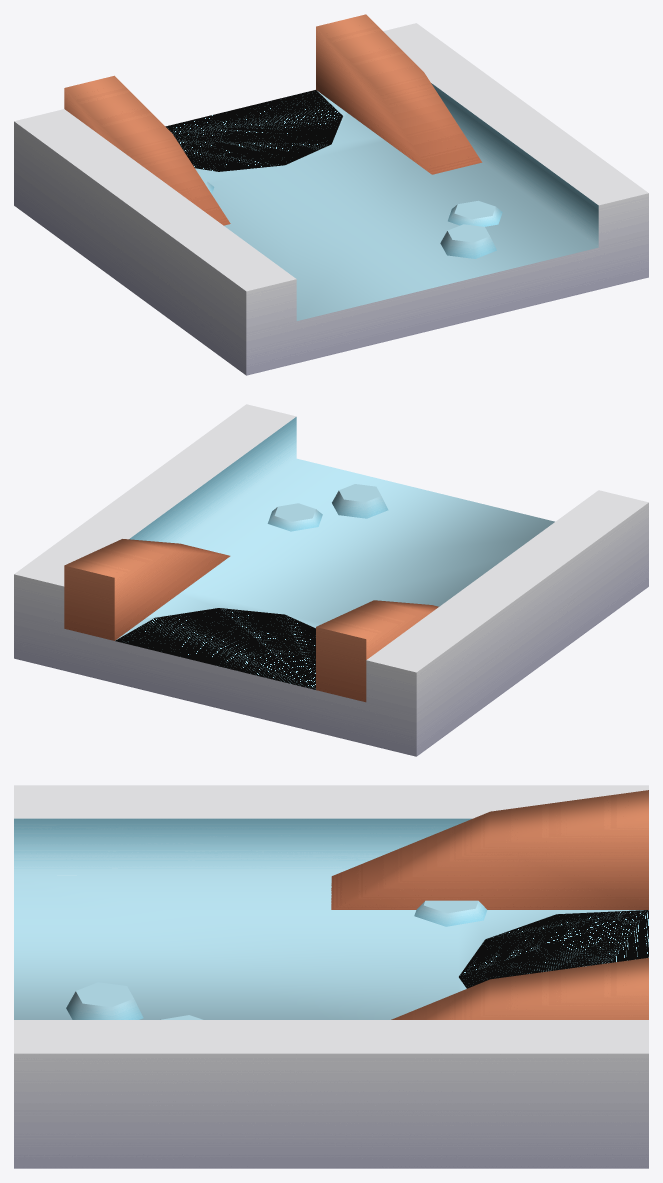
File: tower-defense-kit--snow-tile-river-transition.glb
3 renders of one model, top to bottom at view 1: azimuth 30°, elevation 25°; view 2: azimuth 150°, elevation 25°; view 3: azimuth 270°, elevation 25°, orthographic. The views are drawn at different scales.
Visible parts, largest first — view 1: snow-tile-river-transition; view 2: snow-tile-river-transition; view 3: snow-tile-river-transition.
Part boxes in pixels (box(x1,y1,x2,y2)): snow-tile-river-transition: box(14, 14, 648, 375); snow-tile-river-transition: box(14, 404, 648, 756); snow-tile-river-transition: box(14, 785, 648, 1168).
Size of the model in its own units: 1 by 0.25 by 1.
Materials: 1 (1 with a texture image).
